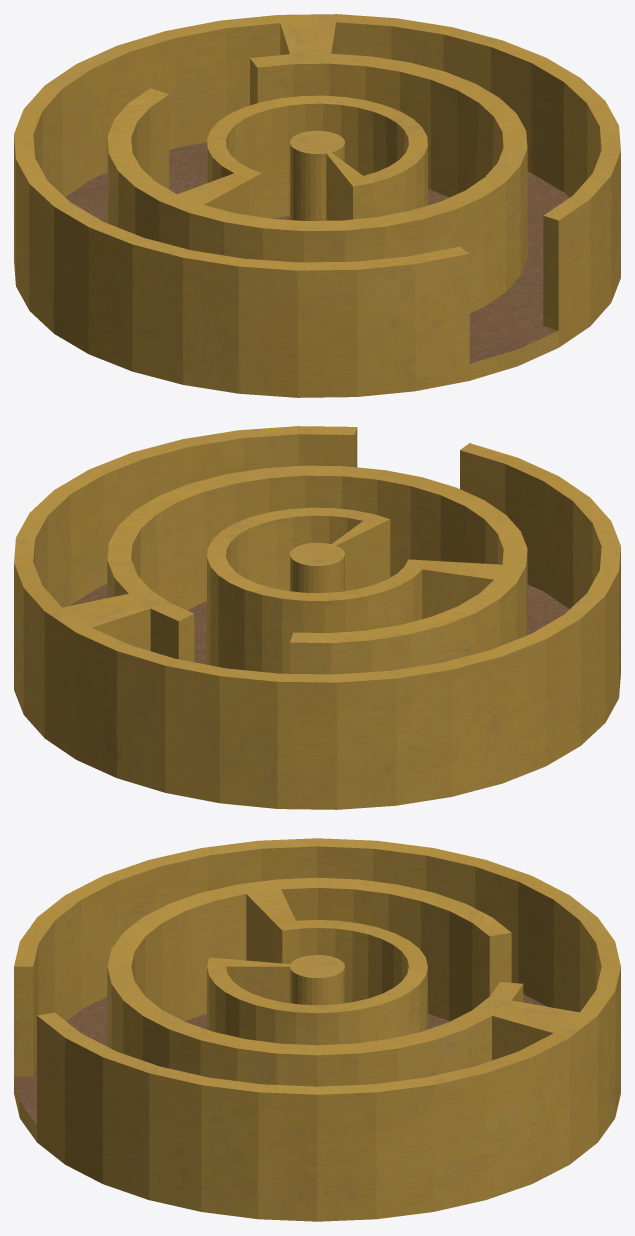
The model's file is LockPickEasy.fbx.
The picture shows the model from 3 angles, top to bottom: view 1: azimuth 30°, elevation 25°; view 2: azimuth 150°, elevation 25°; view 3: azimuth 270°, elevation 25°; orthographic projection.
Visible parts, largest first — view 1: Cylinder; view 2: Cylinder; view 3: Cylinder.
Part boxes in pixels (box(x1,y1,x2,y2)): Cylinder: box(14, 14, 620, 397); Cylinder: box(14, 426, 620, 809); Cylinder: box(14, 838, 620, 1221).
Bounding box in the file's own units: 10000 × 2307 × 10000.
